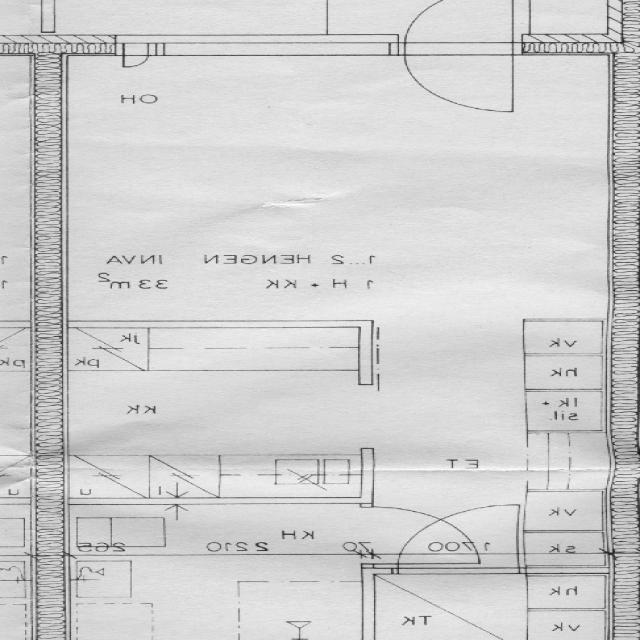door: (398, 502, 520, 574), (406, 34, 514, 112), (362, 506, 482, 563), (406, 0, 514, 54)
